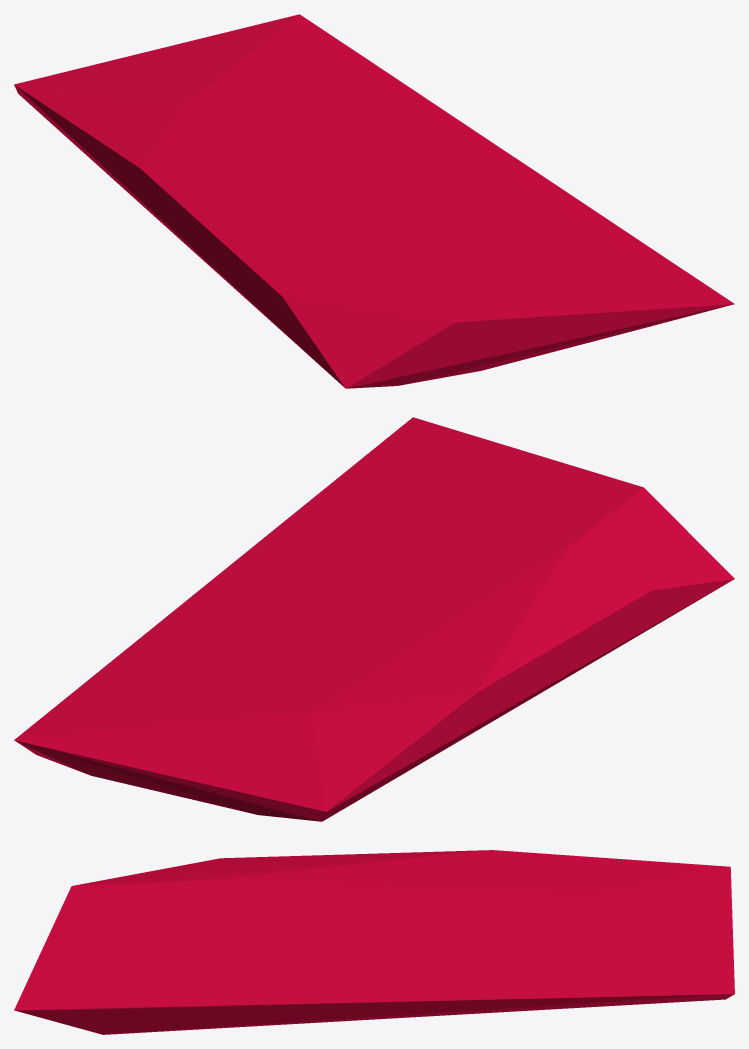
File: torso_convex_piece_014.obj
The picture shows the model from 3 angles, top to bottom: view 1: azimuth 30°, elevation 25°; view 2: azimuth 150°, elevation 25°; view 3: azimuth 270°, elevation 25°; orthographic projection. The views are drawn at different scales.
Bounding box in the file's own units: 0.1218 × 0.0256 × 0.247.
